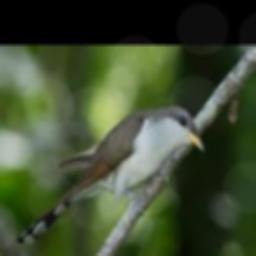Cuckoo: (17, 106, 205, 245)
